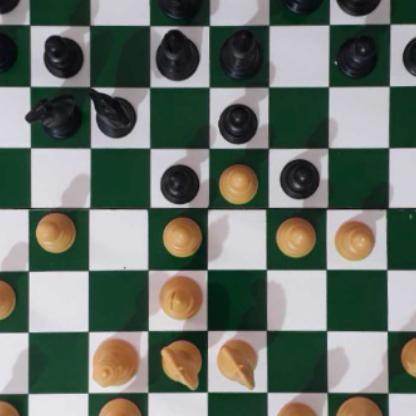black-bishop: (218, 30, 266, 82), (157, 28, 200, 80)
black-king: (336, 0, 388, 20)
black-knight: (25, 92, 80, 136), (86, 87, 136, 135)
black-pawn: (217, 97, 259, 143), (339, 31, 379, 77), (160, 159, 200, 203), (280, 155, 320, 199), (42, 31, 80, 77), (0, 27, 18, 71), (401, 31, 416, 79)
black-queen: (155, 0, 204, 18)
black-rook: (278, 0, 327, 15), (0, 0, 25, 16)
white-bishop: (160, 273, 203, 320), (96, 396, 140, 416)
white-king: (335, 395, 390, 416)
white-knight: (217, 337, 259, 389), (159, 340, 203, 388)
white-pawn: (334, 214, 376, 262), (217, 160, 259, 202), (276, 214, 316, 257), (35, 211, 76, 252), (162, 214, 200, 257), (399, 336, 416, 379), (0, 277, 17, 320)
white-queen: (92, 334, 138, 390)
white-rook: (275, 400, 322, 416), (0, 399, 21, 416)
